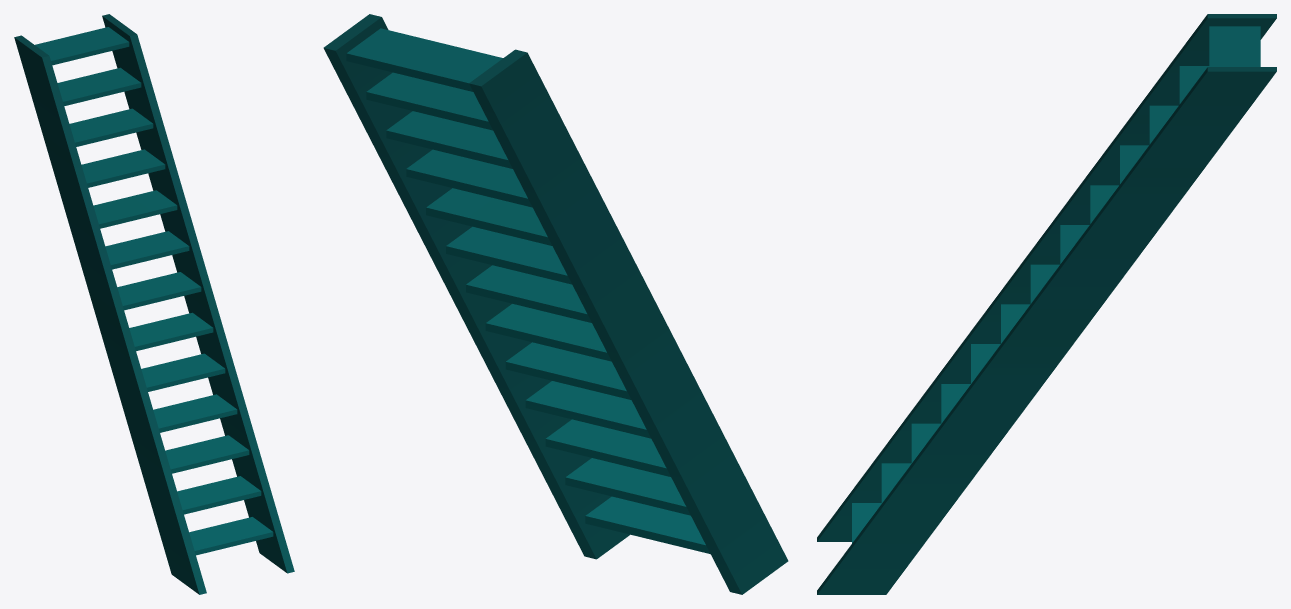
The model's file is FireEscape_C_2.fbx.
The picture shows the model from 3 angles, left to right: view 1: azimuth 30°, elevation 25°; view 2: azimuth 150°, elevation 25°; view 3: azimuth 270°, elevation 25°; orthographic projection. The views are drawn at different scales.
Visible parts, largest first — view 1: FireEscape_C_2; view 2: FireEscape_C_2; view 3: FireEscape_C_2.
Part boxes in pixels (x1,y1,x2,y2): FireEscape_C_2: [14, 14, 294, 594]; FireEscape_C_2: [323, 14, 788, 594]; FireEscape_C_2: [817, 14, 1276, 594].
Size of the model in its own units: 76.75 by 325 by 259.
